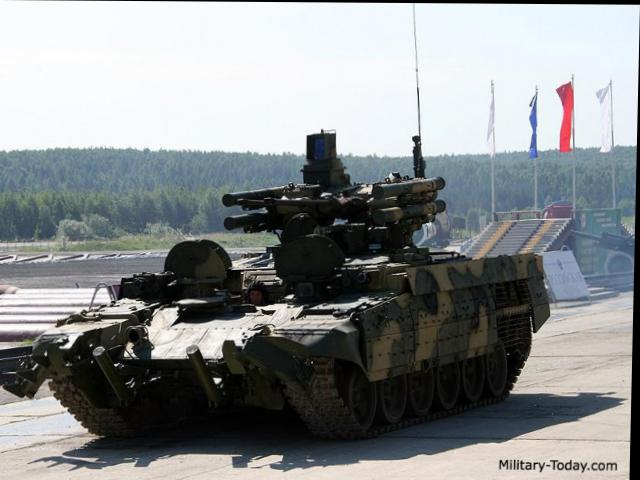tank: (33, 178, 578, 439)
